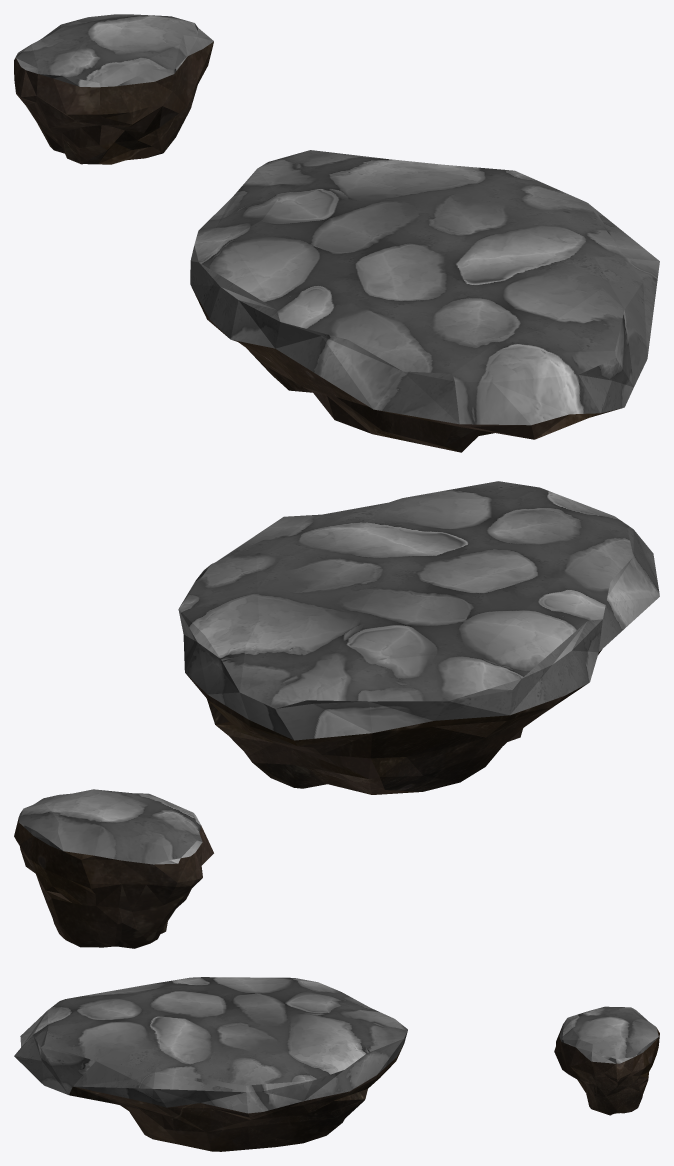
Rendered from final_level_texture.fbx.
3 renders of one model, top to bottom at view 1: azimuth 30°, elevation 25°; view 2: azimuth 150°, elevation 25°; view 3: azimuth 270°, elevation 25°, orthographic. The views are drawn at different scales.
Visible parts, largest first — view 1: stone_island, small_stone_island; view 2: stone_island, small_stone_island; view 3: stone_island, small_stone_island.
Boxes of the visible parts, x1,y1,x2,y2 form: stone_island: (190, 150, 659, 452); small_stone_island: (14, 14, 213, 164); stone_island: (178, 481, 659, 794); small_stone_island: (14, 789, 213, 948); stone_island: (14, 977, 407, 1151); small_stone_island: (554, 1006, 659, 1115).
Bounding box in the file's own units: 4260 × 1818 × 9723.
